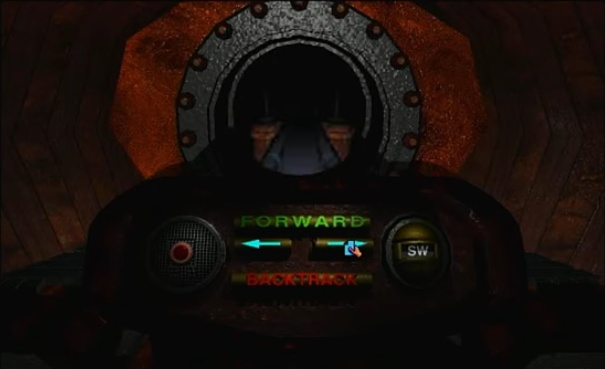Keep: (339, 238, 364, 260)
